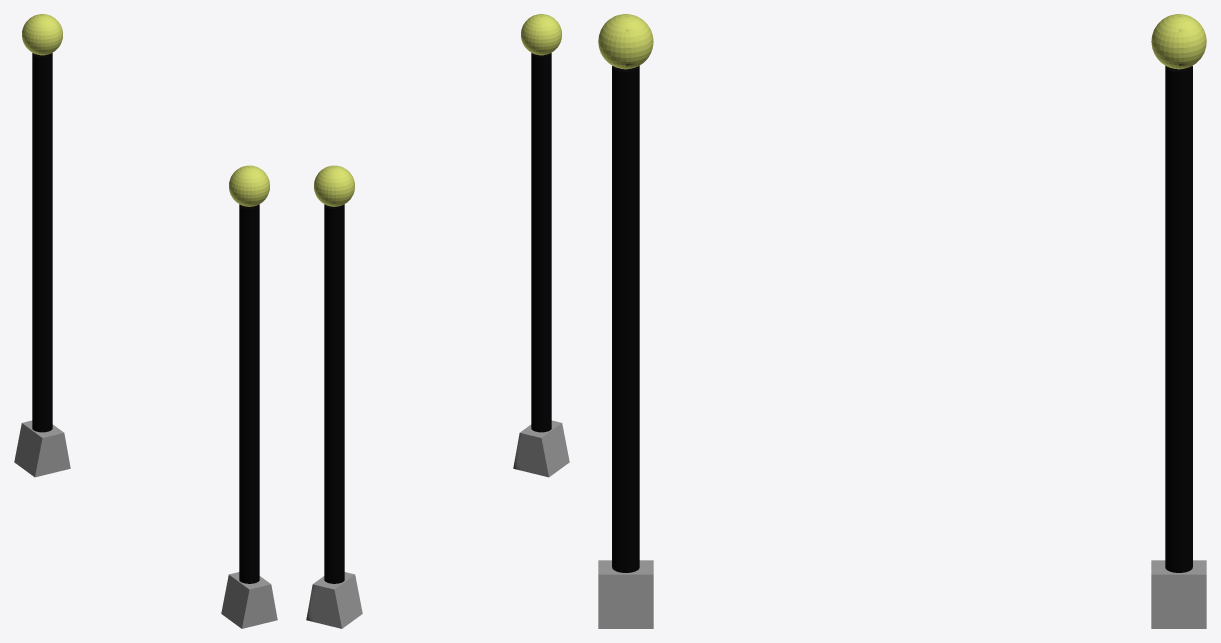
File: GoalPost.obj
3 renders of one model, left to right at view 1: azimuth 30°, elevation 25°; view 2: azimuth 150°, elevation 25°; view 3: azimuth 270°, elevation 25°, orthographic. The views are drawn at different scales.
Visible parts, largest first — view 1: 立方体.001; view 2: 立方体.001; view 3: 立方体.001.
Part boxes in pixels (box(x1,y1,x2,y2)): 立方体.001: box(14, 14, 277, 628); 立方体.001: box(306, 14, 569, 628); 立方体.001: box(598, 14, 1206, 628).
Size of the model in its own units: 0.2 by 2.4 by 2.2.
Materials: 1 (1 with a texture image).
